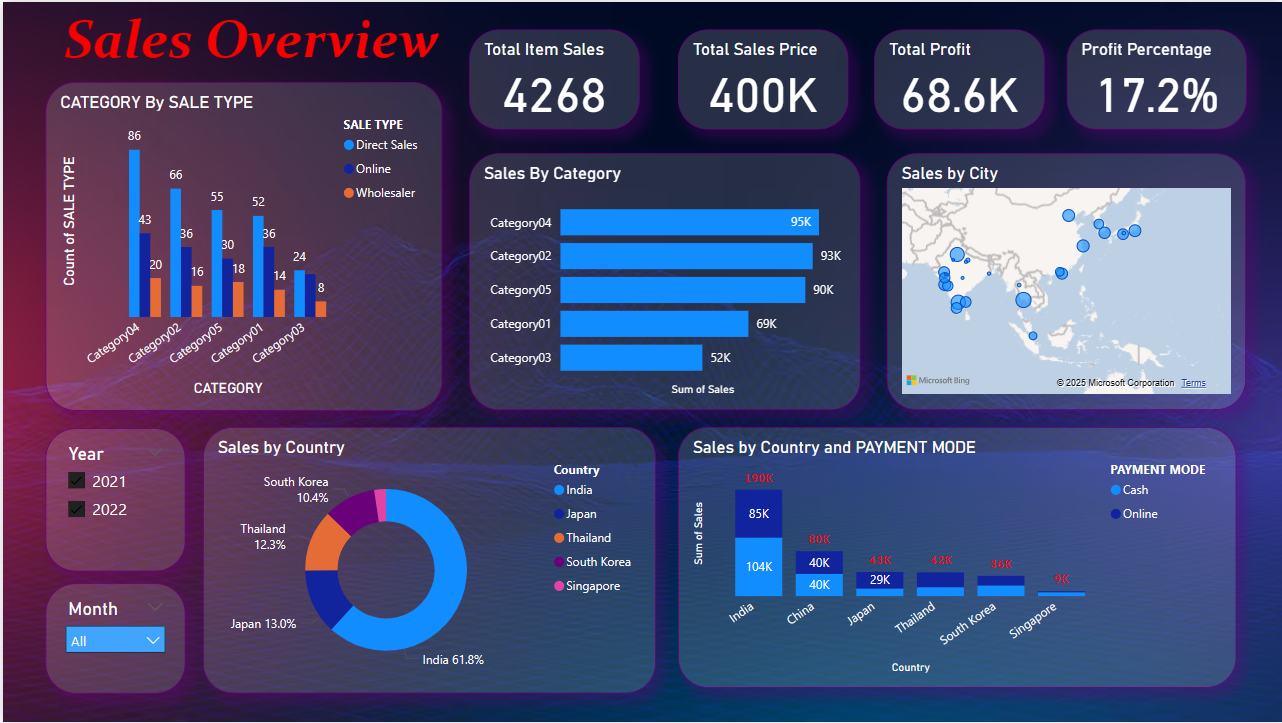

The dashboard page shown, as its layout file describes it:
{"tool":"powerbi","page":{"name":"Page 1","canvas":[1280,720],"ordinal":0},"visuals":[{"type":"clusteredColumnChart","title":" CATEGORY By SALE TYPE","fields":{"Category":["Master Data (2).CATEGORY"],"Y":["CountNonNull(Input Data (2).SALE TYPE)"],"Series":["Input Data (2).SALE TYPE"]},"box":[42.9,80,397.1,328.6],"z":0},{"type":"card","title":"Total Item Sales","fields":{"Values":["Sum(Input Data (2).QUANTITY)"]},"box":[466.6,27.4,170,100],"z":1000},{"type":"columnChart","title":"Sales by Country and PAYMENT MODE","fields":{"Category":["Input Data (2).Country"],"Series":["Input Data (2).PAYMENT MODE"],"Y":["Sum(Input Data (2).Sales)"]},"box":[675.1,425.4,558.5,260.7],"z":2000},{"type":"slicer","fields":{"Values":["Input Data (2).DATE.Variation.Date Hierarchy.Year"]},"box":[42.9,425.7,140,142.9],"z":3000},{"type":"textbox","box":[0,0,497.1,80],"z":4000},{"type":"card","title":"Total Profit","fields":{"Values":["Sum(Input Data (2).Profit)"]},"box":[871.4,27.4,170,100],"z":5000},{"type":"donutChart","title":"Sales by Country","fields":{"Category":["Input Data (2).Country"],"Y":["CountNonNull(Input Data (2).Sales)"]},"box":[200.3,425.4,452.8,266.2],"z":6000},{"type":"slicer","fields":{"Values":["Input Data (2).DATE.Variation.Date Hierarchy.Month"]},"box":[42.9,581.4,140,110],"z":7000},{"type":"card","title":"Total Sales Price","fields":{"Values":["Sum(Input Data (2).Sales)"]},"box":[675.1,27.4,170,100],"z":8000},{"type":"map","title":"Sales by City","fields":{"Category":["Input Data (2).City"],"Size":["Sum(Input Data (2).Sales)"]},"box":[883.7,150.9,359.5,256.6],"z":9000},{"type":"clusteredBarChart","title":"Sales By Category","fields":{"Y":["Sum(Input Data (2).Sales)"],"Category":["Master Data (2).CATEGORY"]},"box":[466.6,150.9,391.1,256.6],"z":10000},{"type":"card","title":"Profit Percentage","fields":{"Values":["Input Data (2).Profit Percentage"]},"box":[1063.5,27.4,179.8,100.2],"z":11000}]}

Visuals, with their boxes in screenshot pixels (x1, y1, x2, y2), scaled from the page's 1280x720 canvas onto the 1282x723 screenshot:
" CATEGORY By SALE TYPE" clusteredColumnChart: <region>43, 80, 441, 410</region>
"Total Item Sales" card: <region>467, 28, 638, 128</region>
"Sales by Country and PAYMENT MODE" columnChart: <region>676, 427, 1236, 689</region>
slicer - Input Data (2).DATE.Variation.Date Hierarchy.Year: <region>43, 427, 183, 571</region>
textbox: <region>0, 0, 498, 80</region>
"Total Profit" card: <region>873, 28, 1043, 128</region>
"Sales by Country" donutChart: <region>201, 427, 654, 694</region>
slicer - Input Data (2).DATE.Variation.Date Hierarchy.Month: <region>43, 584, 183, 694</region>
"Total Sales Price" card: <region>676, 28, 846, 128</region>
"Sales by City" map: <region>885, 152, 1245, 409</region>
"Sales By Category" clusteredBarChart: <region>467, 152, 859, 409</region>
"Profit Percentage" card: <region>1065, 28, 1245, 128</region>
